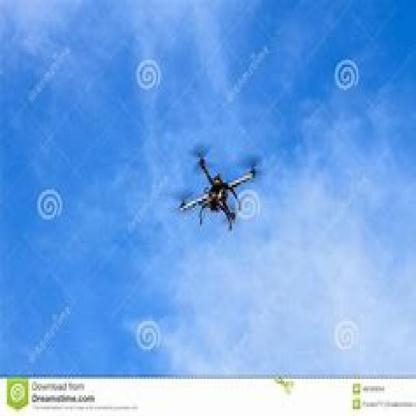drone: (172, 134, 266, 238)
